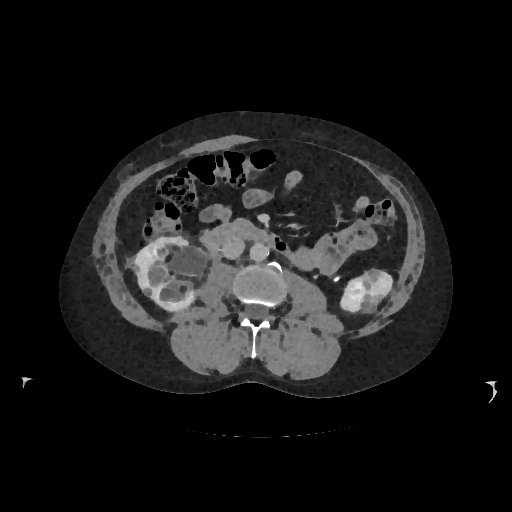Lesion: (358, 298, 382, 319)
